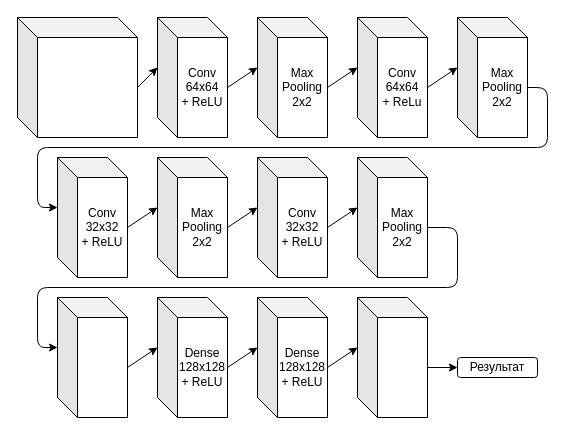
Image size: 573x435. Some labels were removed from this diagram. Each missing label, with the centre of its shape:
"Dropout 0.5" goes at pixel 392 357.
"Flatten" goes at pixel 92 357.
"Image 128x128" goes at pixel 77 77.
